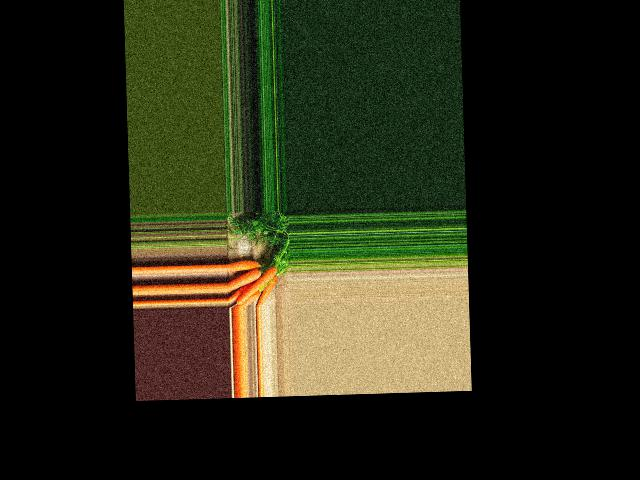carrot: (236, 288, 261, 290)
